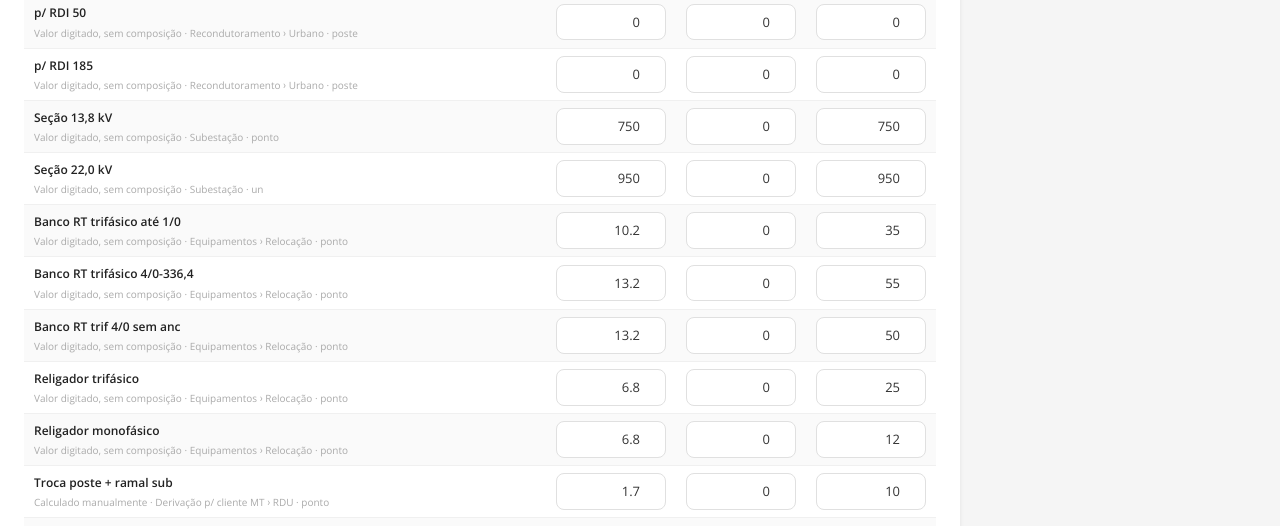
R7 — tela "Editar valores" › valor negativo bloqueia a geração; variação grande e unitário zerado avisam
(page scrolled)
Replace the text in the number field named "Seção 22,0 kV — material" with "-1". click: (611, 179)
box: x1=556 y1=160 x2=666 y2=197
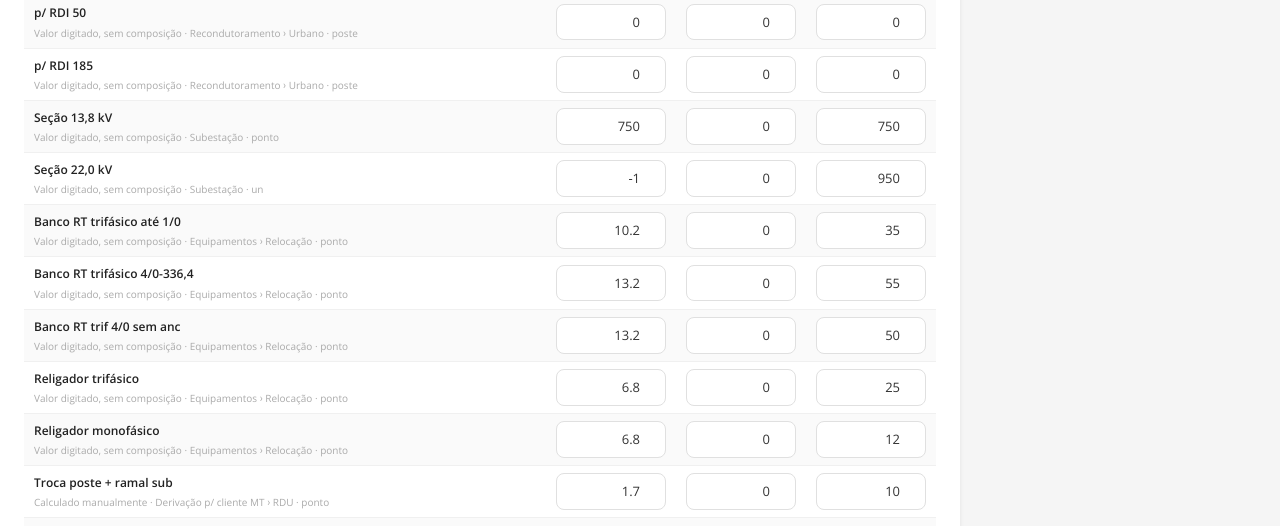
Replace the text in the number field named "Seção 22,0 kV — material" with "950". click: (611, 179)
box: x1=556 y1=160 x2=666 y2=197
(page scrolled)
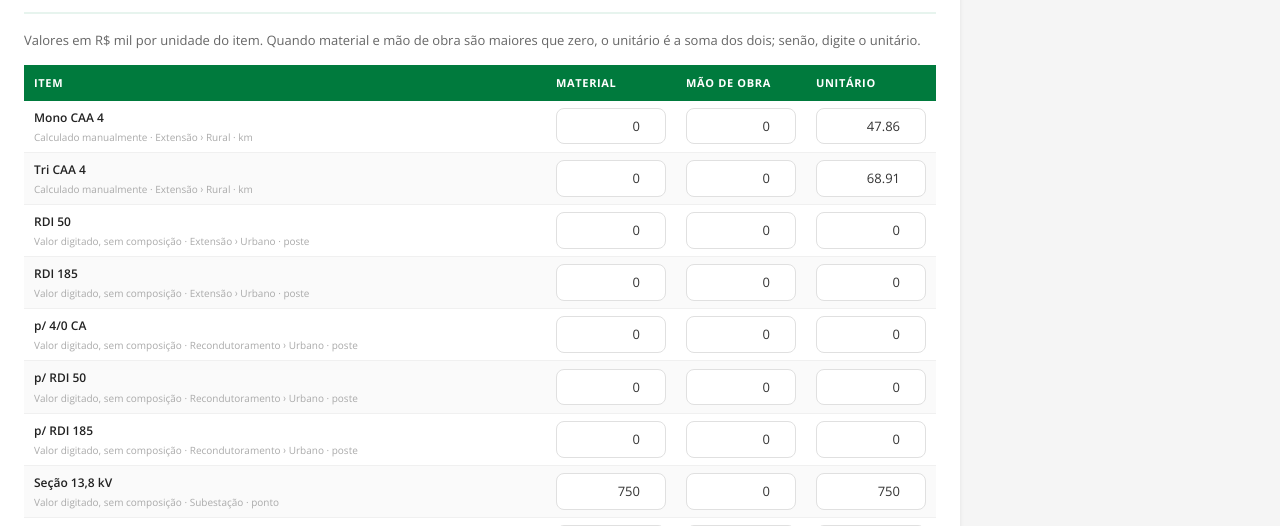
Replace the text in the number field named "Tri CAA 4 — unitário" with "0". click: (871, 178)
box: x1=816 y1=160 x2=926 y2=197
(page scrolled)
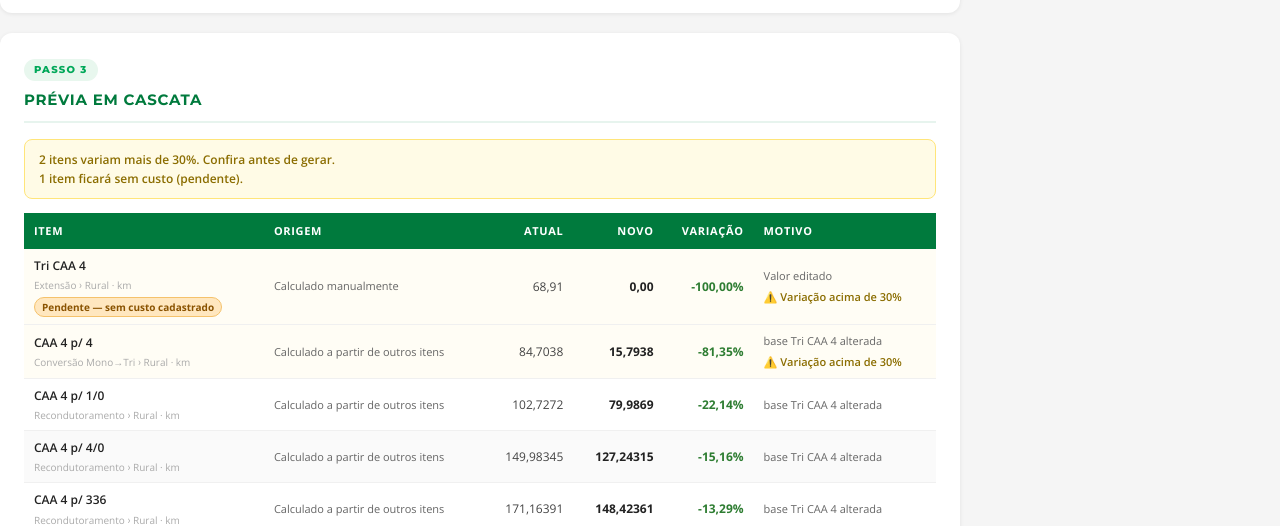
Check: the text "Pendente — sem custo cadastrado" is shown, box x1=34 y1=297 x2=222 y2=317
Check: the text "⚠️ Variação acima de 30%" below "Valor editado" is shown, box x1=764 y1=289 x2=902 y2=304
Check: the text "1 item ficará sem custo (pendente)." is shown, box x1=39 y1=170 x2=243 y2=187
